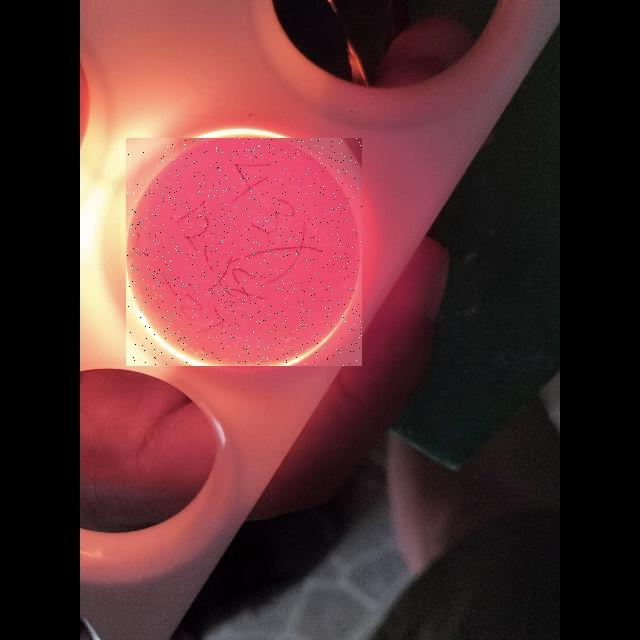Infertile: (126, 138, 362, 366)
